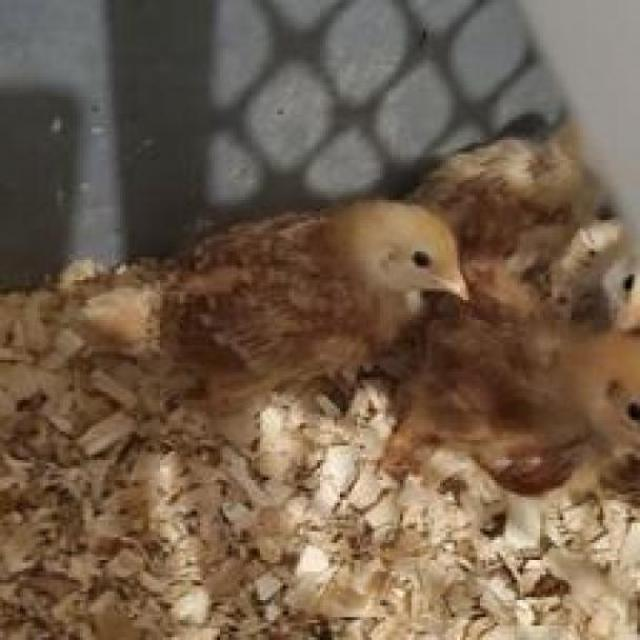Chicken: (139, 177, 486, 428)
